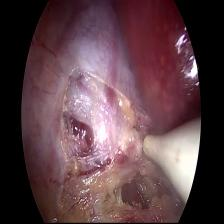Hook: (143, 119, 203, 206)
